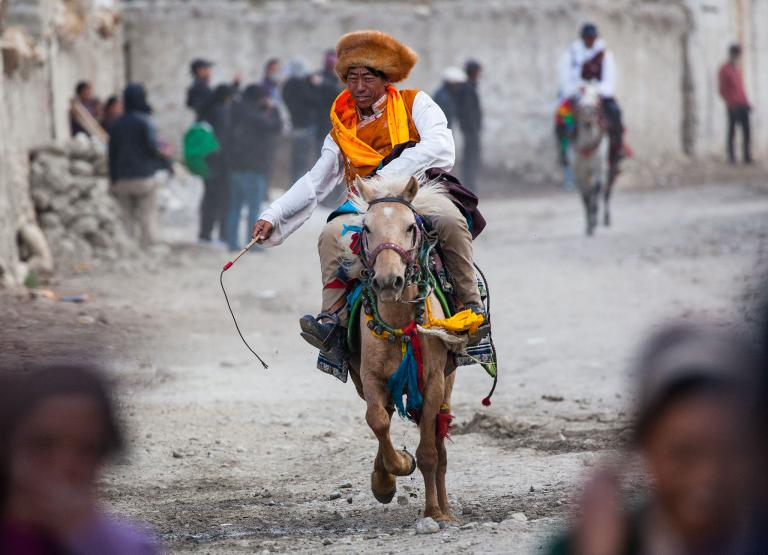human: (245, 28, 491, 345)
